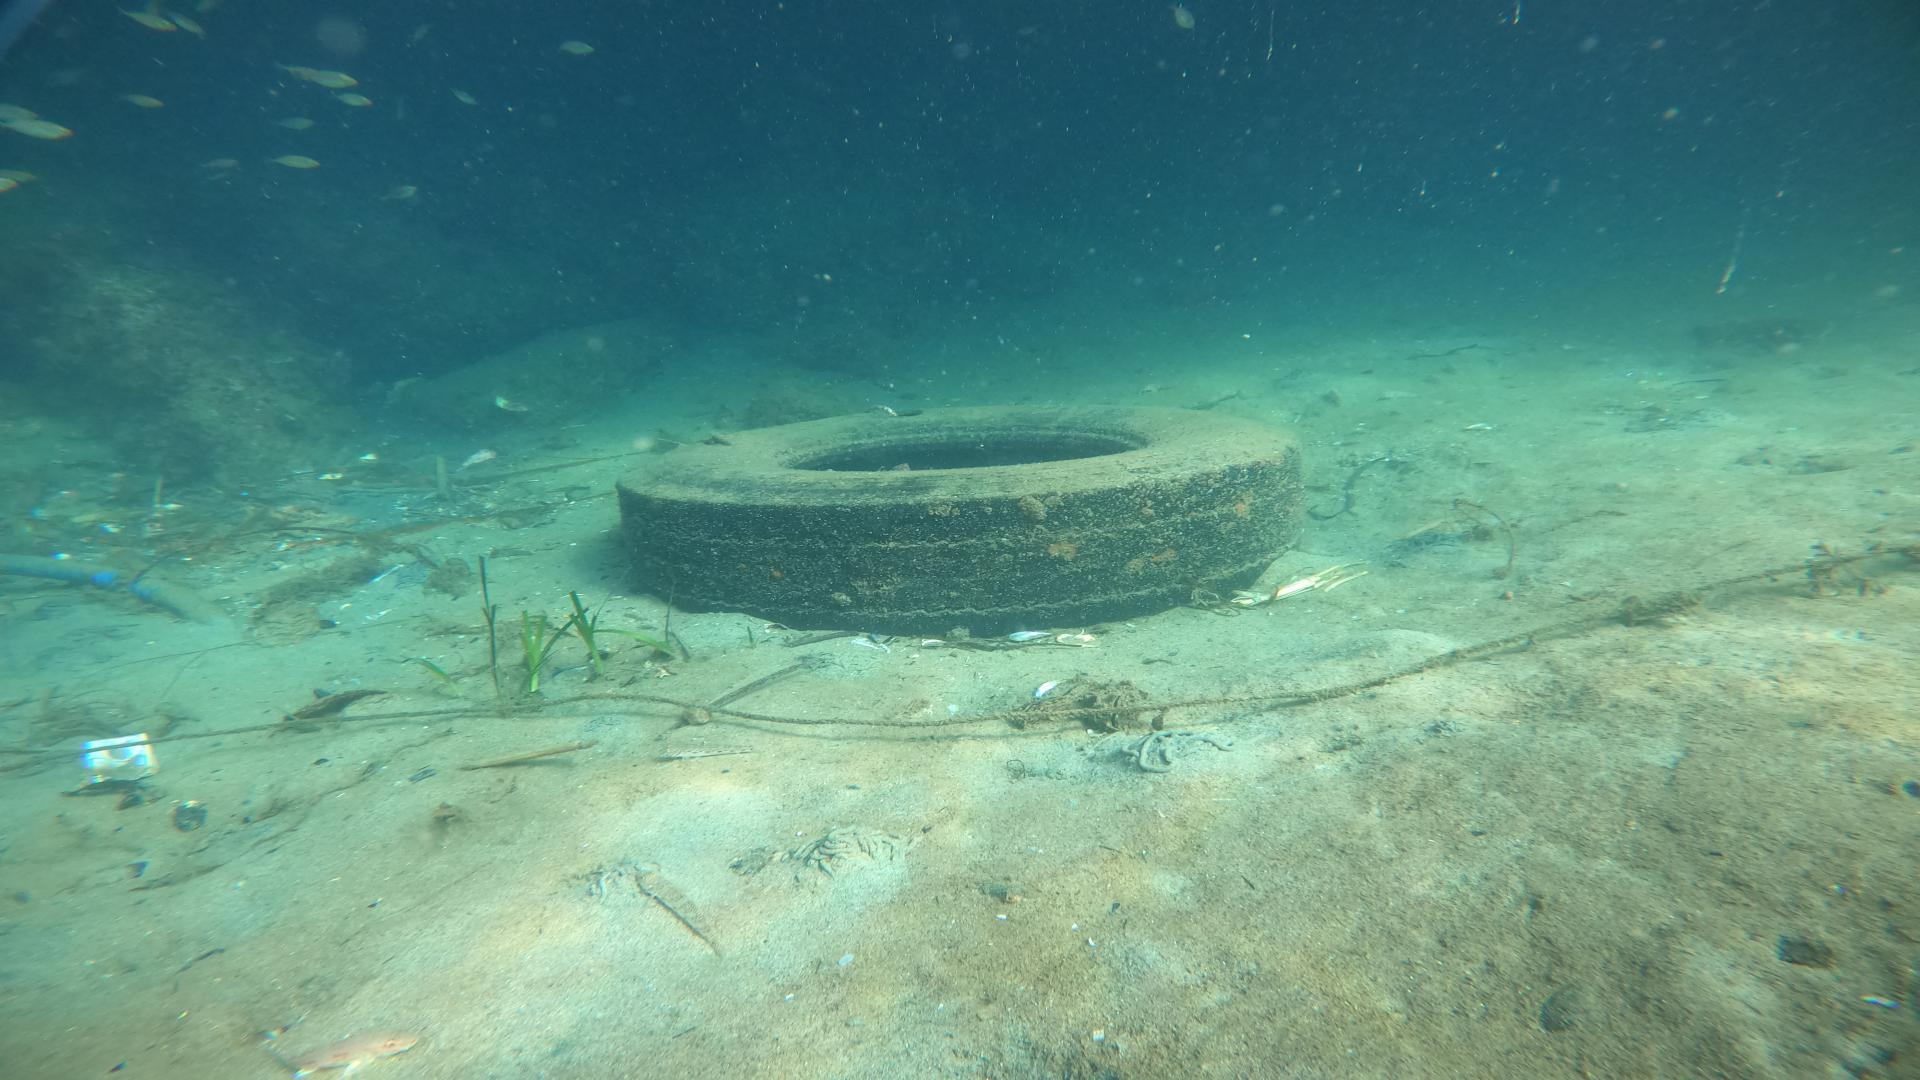tire: (615, 400, 1304, 633)
